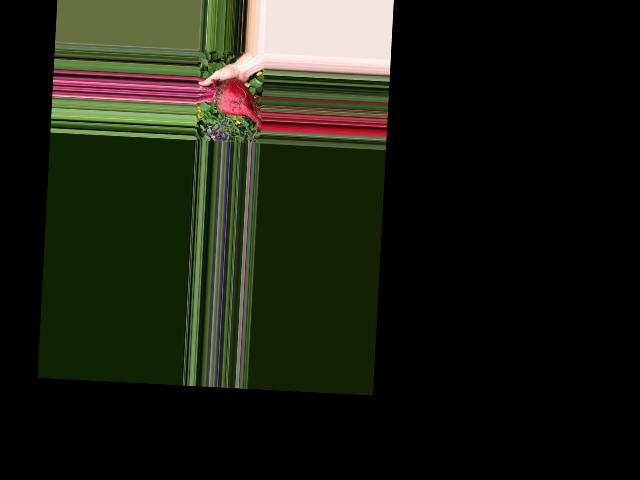beet: (195, 77, 264, 129)
